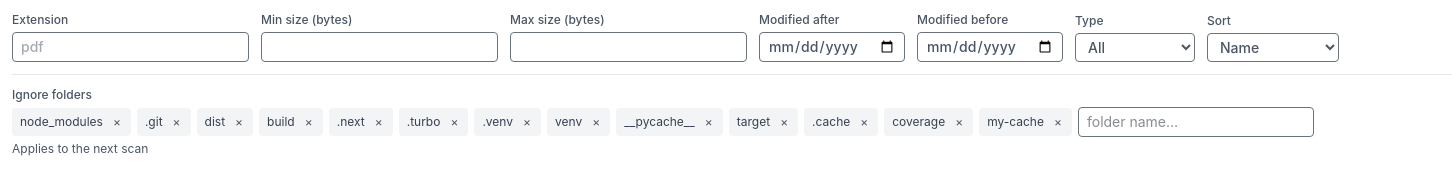
Test: FiltersPanel › removing a pattern takes it off the list
Click the button named "remove node_modules".
click(117, 122)  # box [105,110,129,134]
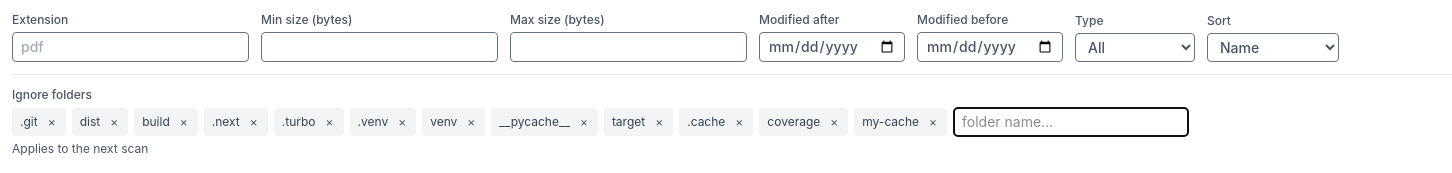
Expected: the text "node_modules" is gone
